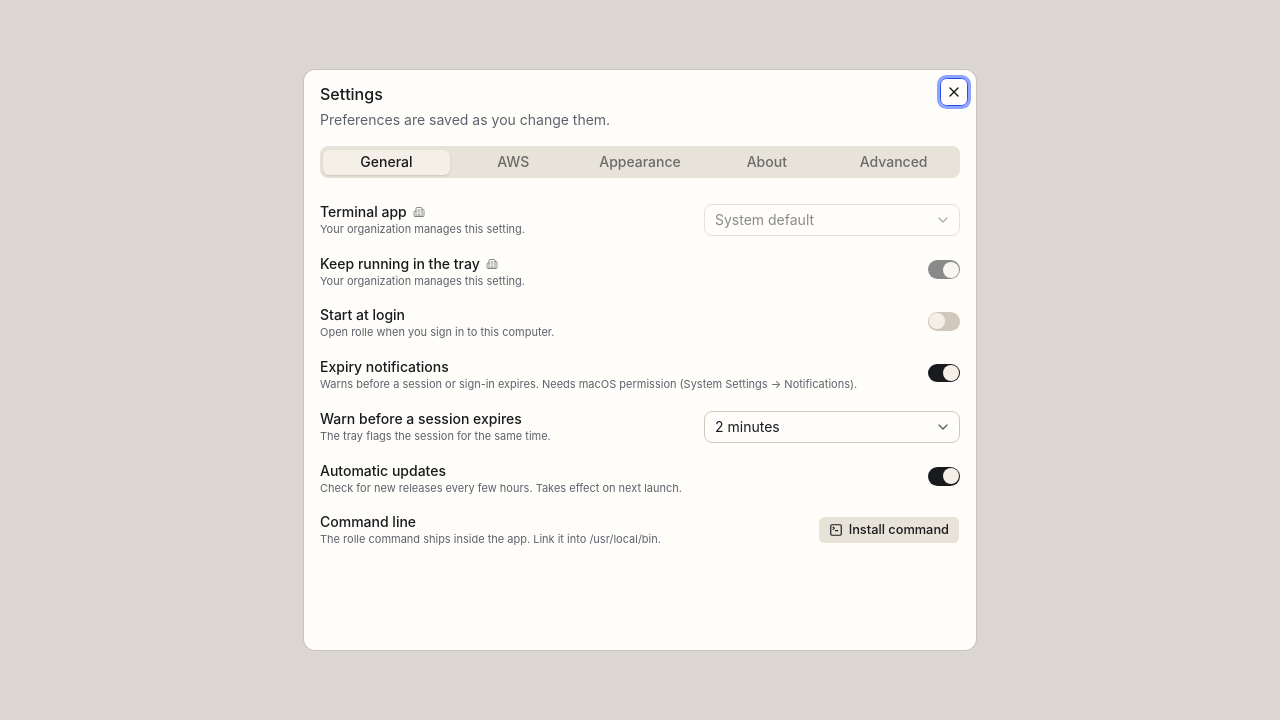
Scenario: SettingsDialog › locks the controls of the settings that the organization locks
Check: the tab "General" is shown, box 323,150 -> 450,174
Check: the dropdown named "Terminal app" is disabled, box 704,204 -> 960,236
Click the tab "Advanced" at (894, 162), box 830,150 -> 957,174
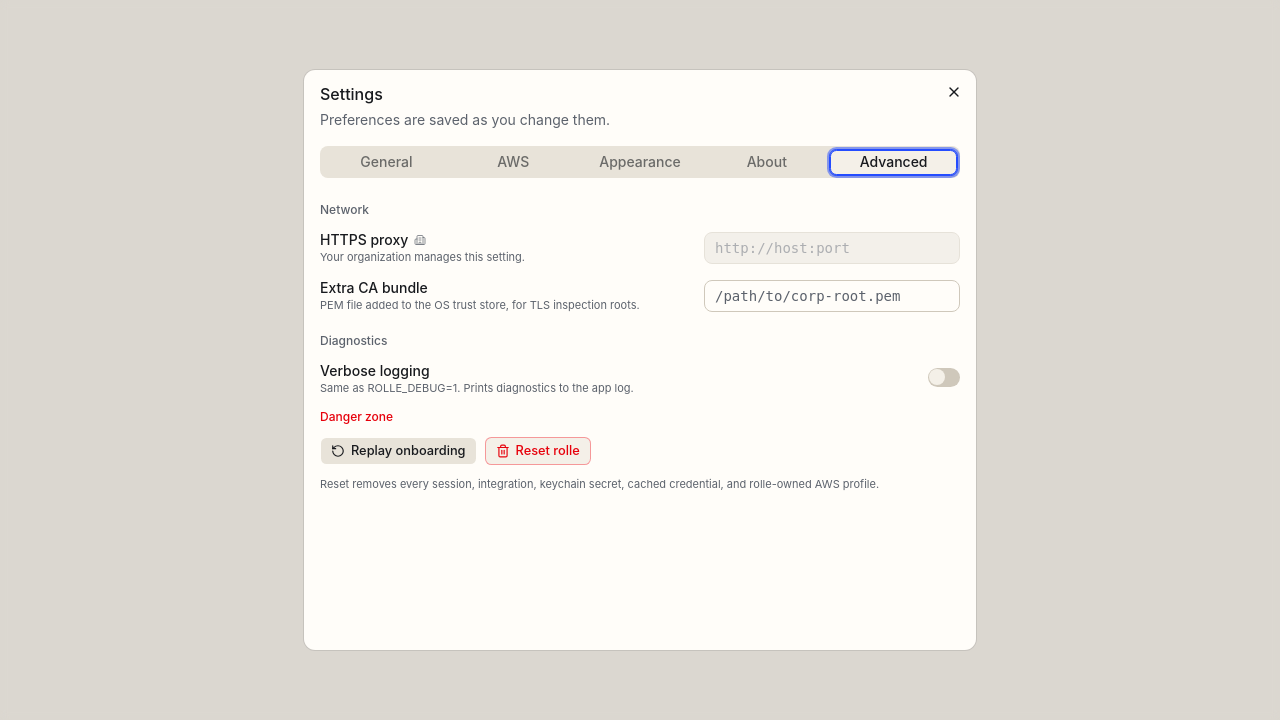
Check: the field with placeholder "http://host:port" is disabled, box 704,232 -> 960,264
Check: the field with placeholder "/path/to/corp-root.pem" is enabled, box 704,280 -> 960,312
Click the tab "Appearance" at (640, 162), box 577,150 -> 703,174
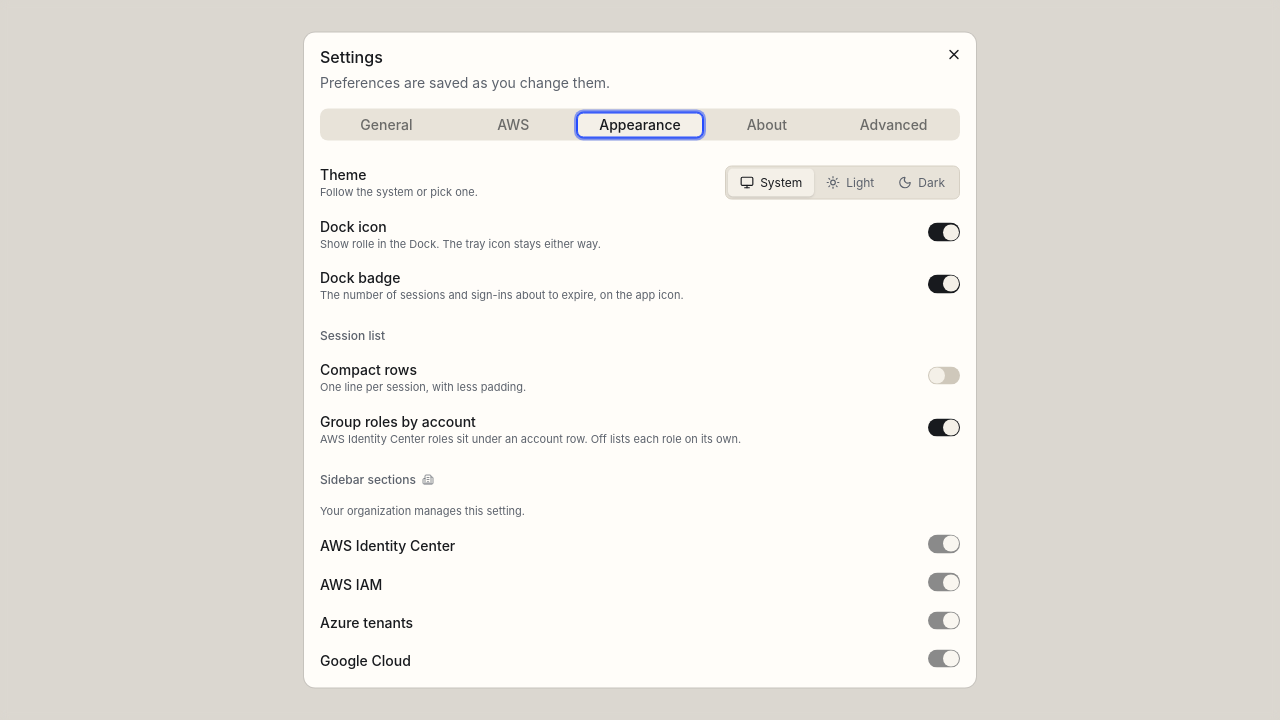
Check: the switch named "Azure tenants" is disabled, box 928,611 -> 960,630
